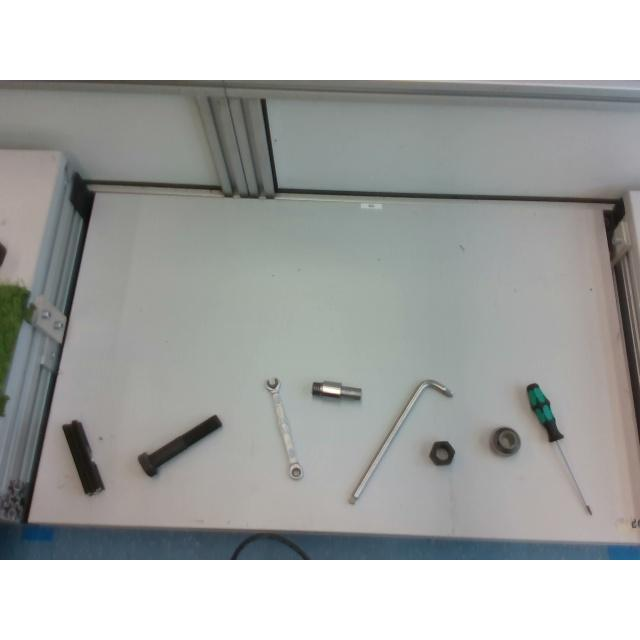AllenKey: (348, 379, 454, 505)
Axis2: (312, 380, 362, 398)
Bearing2: (488, 427, 520, 455)
F20_20_B: (61, 420, 102, 492)
M20: (429, 440, 455, 464)
M20_100: (137, 415, 221, 475)
Wrench: (526, 382, 594, 516), (266, 377, 302, 479)
